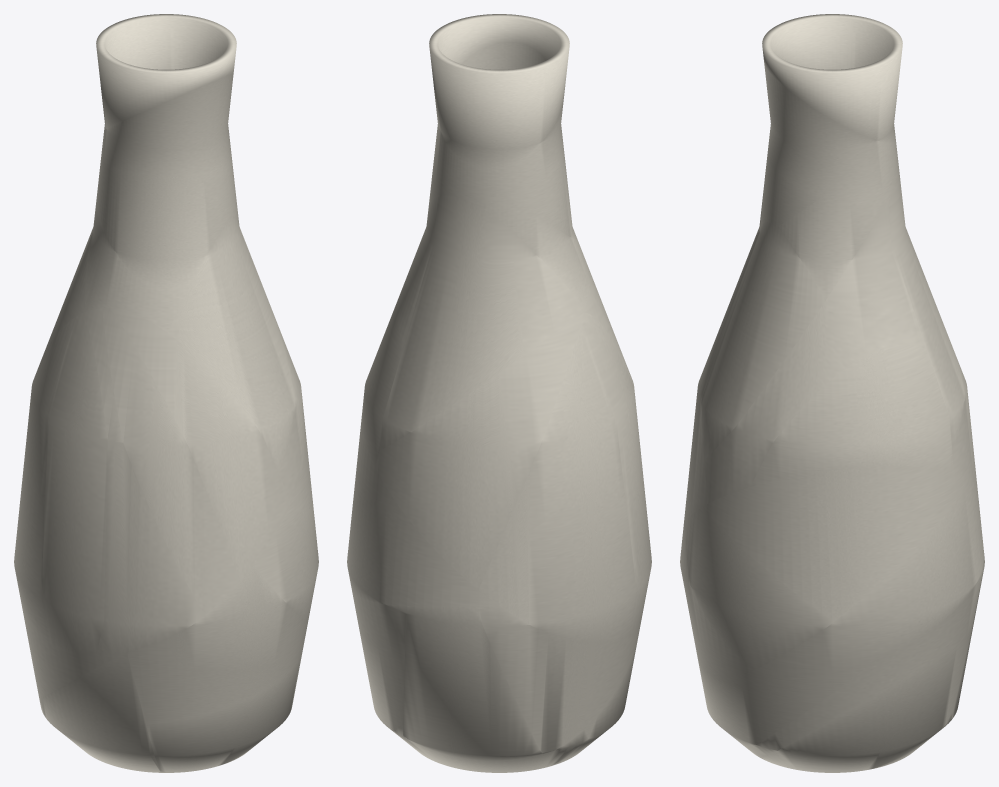
File: fragments.glb
3 views of the same model, side by side, from view 1: azimuth 30°, elevation 25°; view 2: azimuth 150°, elevation 25°; view 3: azimuth 270°, elevation 25° (orthographic).
Parts seen in each view (by area): view 1: fragment-007-ivory, fragment-025-ivory, fragment-004-ivory, fragment-024-ivory, fragment-011-ivory, fragment-018-ivory, fragment-008-ivory, fragment-009-ivory, fragment-027-ivory, fragment-017-ivory, fragment-022-ivory, fragment-023-ivory (+9 smaller); view 2: fragment-006-ivory, fragment-005-ivory, fragment-008-ivory, fragment-015-ivory, fragment-029-ivory, fragment-014-ivory, fragment-028-ivory, fragment-001-ivory, fragment-007-ivory, fragment-009-ivory, fragment-019-ivory, fragment-000-ivory (+9 smaller); view 3: fragment-003-ivory, fragment-013-ivory, fragment-012-ivory, fragment-001-ivory, fragment-004-ivory, fragment-008-ivory, fragment-026-ivory, fragment-021-ivory, fragment-009-ivory, fragment-010-ivory, fragment-019-ivory, fragment-006-ivory (+6 smaller).
Boxes of the visible parts, left/top/right/bottom form: fragment-007-ivory: left=41, top=313, right=107, bottom=655; fragment-025-ivory: left=110, top=308, right=290, bottom=580; fragment-004-ivory: left=167, top=218, right=295, bottom=471; fragment-024-ivory: left=102, top=308, right=239, bottom=614; fragment-011-ivory: left=82, top=308, right=204, bottom=655; fragment-018-ivory: left=97, top=160, right=235, bottom=287; fragment-008-ivory: left=96, top=14, right=236, bottom=130; fragment-009-ivory: left=101, top=73, right=233, bottom=175; fragment-027-ivory: left=130, top=565, right=307, bottom=670; fragment-017-ivory: left=43, top=652, right=160, bottom=772; fragment-022-ivory: left=146, top=651, right=302, bottom=772; fragment-023-ivory: left=127, top=633, right=305, bottom=723; fragment-006-ivory: left=380, top=195, right=585, bottom=450; fragment-005-ivory: left=377, top=310, right=584, bottom=589; fragment-008-ivory: left=429, top=14, right=569, bottom=168; fragment-015-ivory: left=403, top=606, right=542, bottom=760; fragment-029-ivory: left=529, top=499, right=637, bottom=642; fragment-014-ivory: left=476, top=605, right=642, bottom=753; fragment-028-ivory: left=529, top=326, right=625, bottom=531; fragment-001-ivory: left=347, top=500, right=498, bottom=606; fragment-007-ivory: left=580, top=312, right=651, bottom=630; fragment-009-ivory: left=432, top=42, right=563, bottom=198; fragment-019-ivory: left=428, top=175, right=590, bottom=307; fragment-000-ivory: left=478, top=471, right=529, bottom=624; fragment-003-ivory: left=702, top=466, right=969, bottom=621; fragment-013-ivory: left=704, top=201, right=926, bottom=503; fragment-012-ivory: left=751, top=344, right=953, bottom=486; fragment-001-ivory: left=747, top=479, right=983, bottom=677; fragment-004-ivory: left=701, top=221, right=824, bottom=459; fragment-008-ivory: left=762, top=14, right=902, bottom=143; fragment-026-ivory: left=685, top=507, right=833, bottom=668; fragment-021-ivory: left=760, top=636, right=969, bottom=772; fragment-009-ivory: left=764, top=64, right=899, bottom=199; fragment-010-ivory: left=743, top=562, right=983, bottom=757; fragment-019-ivory: left=778, top=176, right=899, bottom=300; fragment-006-ivory: left=888, top=175, right=964, bottom=449.
Size of the model in its own units: 0.104 by 0.26 by 0.104.
2 materials, 2 textured.
